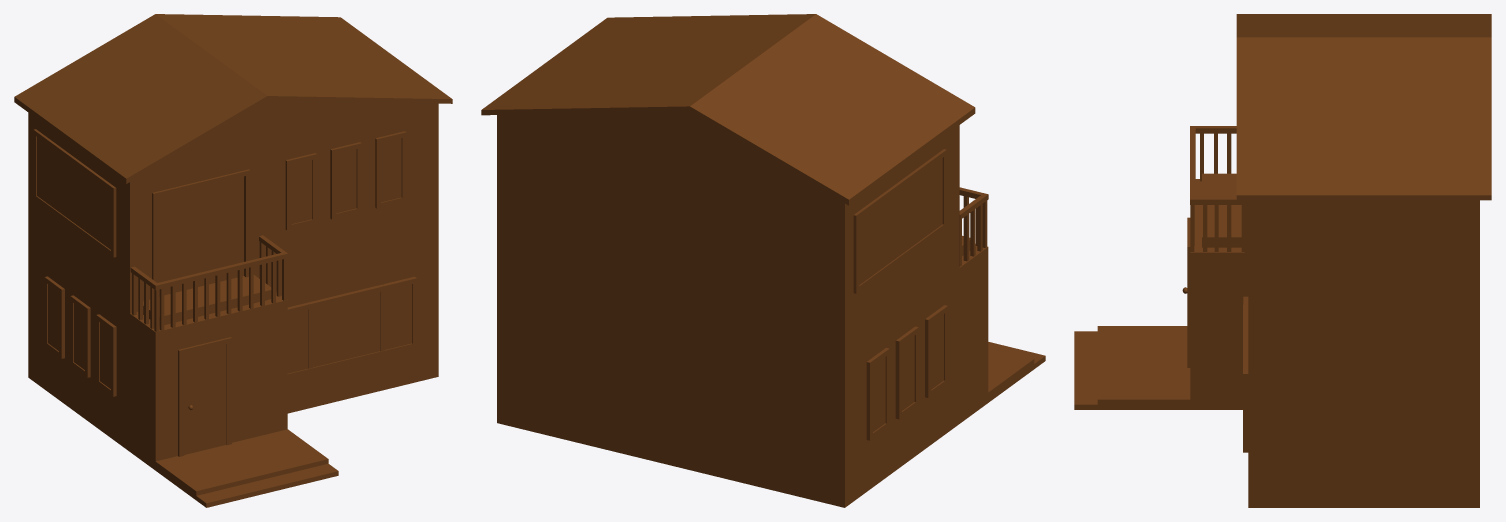
The model's file is Casa Grande.fbx.
3 views of the same model, side by side, from view 1: azimuth 30°, elevation 25°; view 2: azimuth 150°, elevation 25°; view 3: azimuth 270°, elevation 25° (orthographic). The views are drawn at different scales.
Visible parts, largest first — view 1: Casa Grande.001; view 2: Casa Grande.001; view 3: Casa Grande.001.
Boxes of the visible parts, x1,y1,x2,y2 form: Casa Grande.001: (14,14,452,507); Casa Grande.001: (481,14,1045,507); Casa Grande.001: (1074,14,1491,507).
Bounding box in the file's own units: 673 × 646 × 655.
